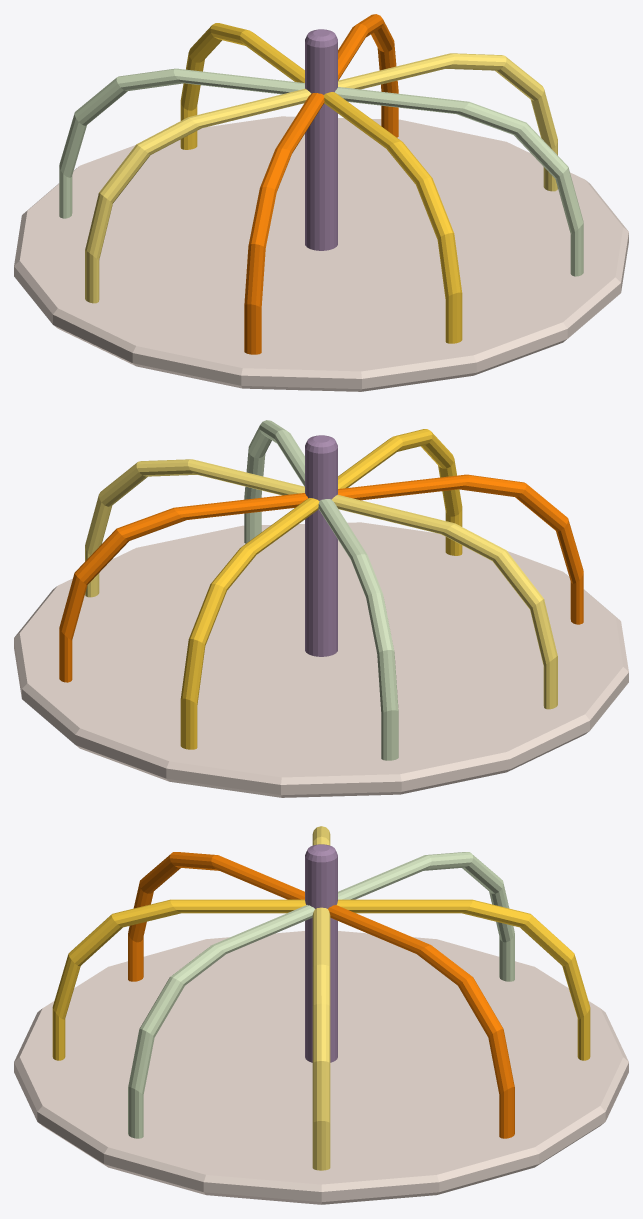
Rendered from Isl_9_Children_swing_2.fbx.
3 views of the same model, one above another, from view 1: azimuth 30°, elevation 25°; view 2: azimuth 150°, elevation 25°; view 3: azimuth 270°, elevation 25° (orthographic).
Visible parts, largest first — view 1: Isl_9_Children_swing_2; view 2: Isl_9_Children_swing_2; view 3: Isl_9_Children_swing_2.
Part boxes in pixels (x1=…): Isl_9_Children_swing_2: x1=14, y1=14, x2=628, y2=391; Isl_9_Children_swing_2: x1=14, y1=420, x2=628, y2=797; Isl_9_Children_swing_2: x1=14, y1=826, x2=628, y2=1204.
Bounding box in the file's own units: 235 × 235 × 124.
Materials: 1 (1 with a texture image).
